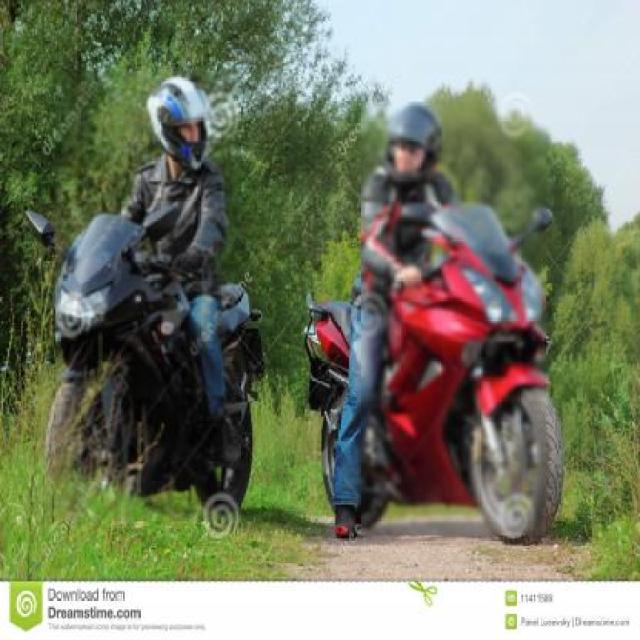helmet: (107, 67, 228, 174), (356, 90, 445, 205)
motorcycle: (295, 73, 611, 564), (46, 39, 290, 534)
